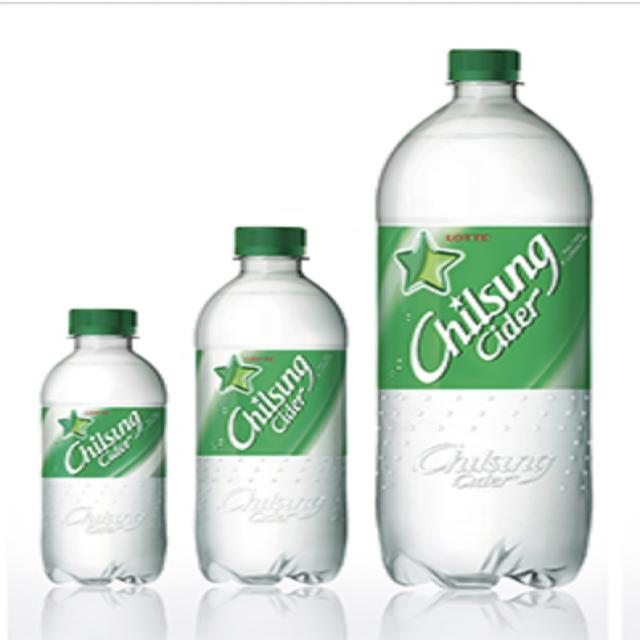recyclable: (357, 26, 611, 602), (169, 203, 364, 598), (25, 286, 182, 598)
